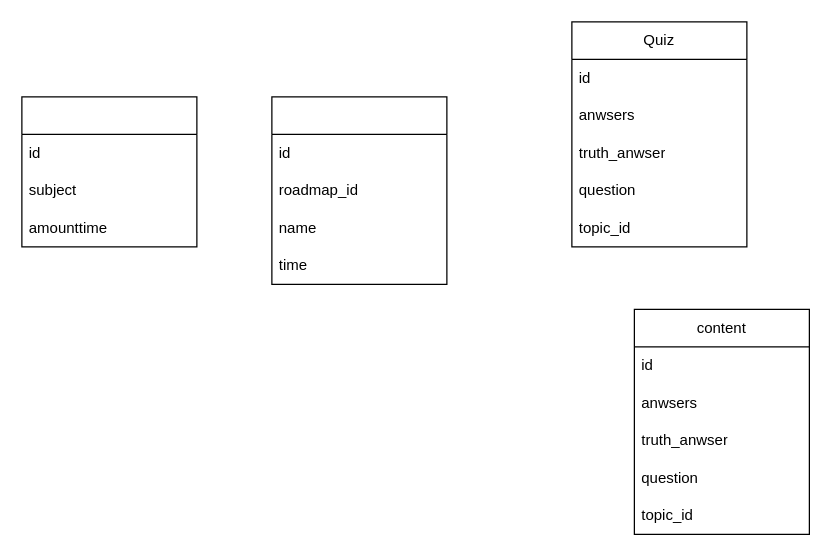
This 831x556 diagram has some shape labels left out. Each missing label, with the box of its shape:
Roadmap: (21, 96, 197, 247)
Topic: (271, 96, 447, 284)
